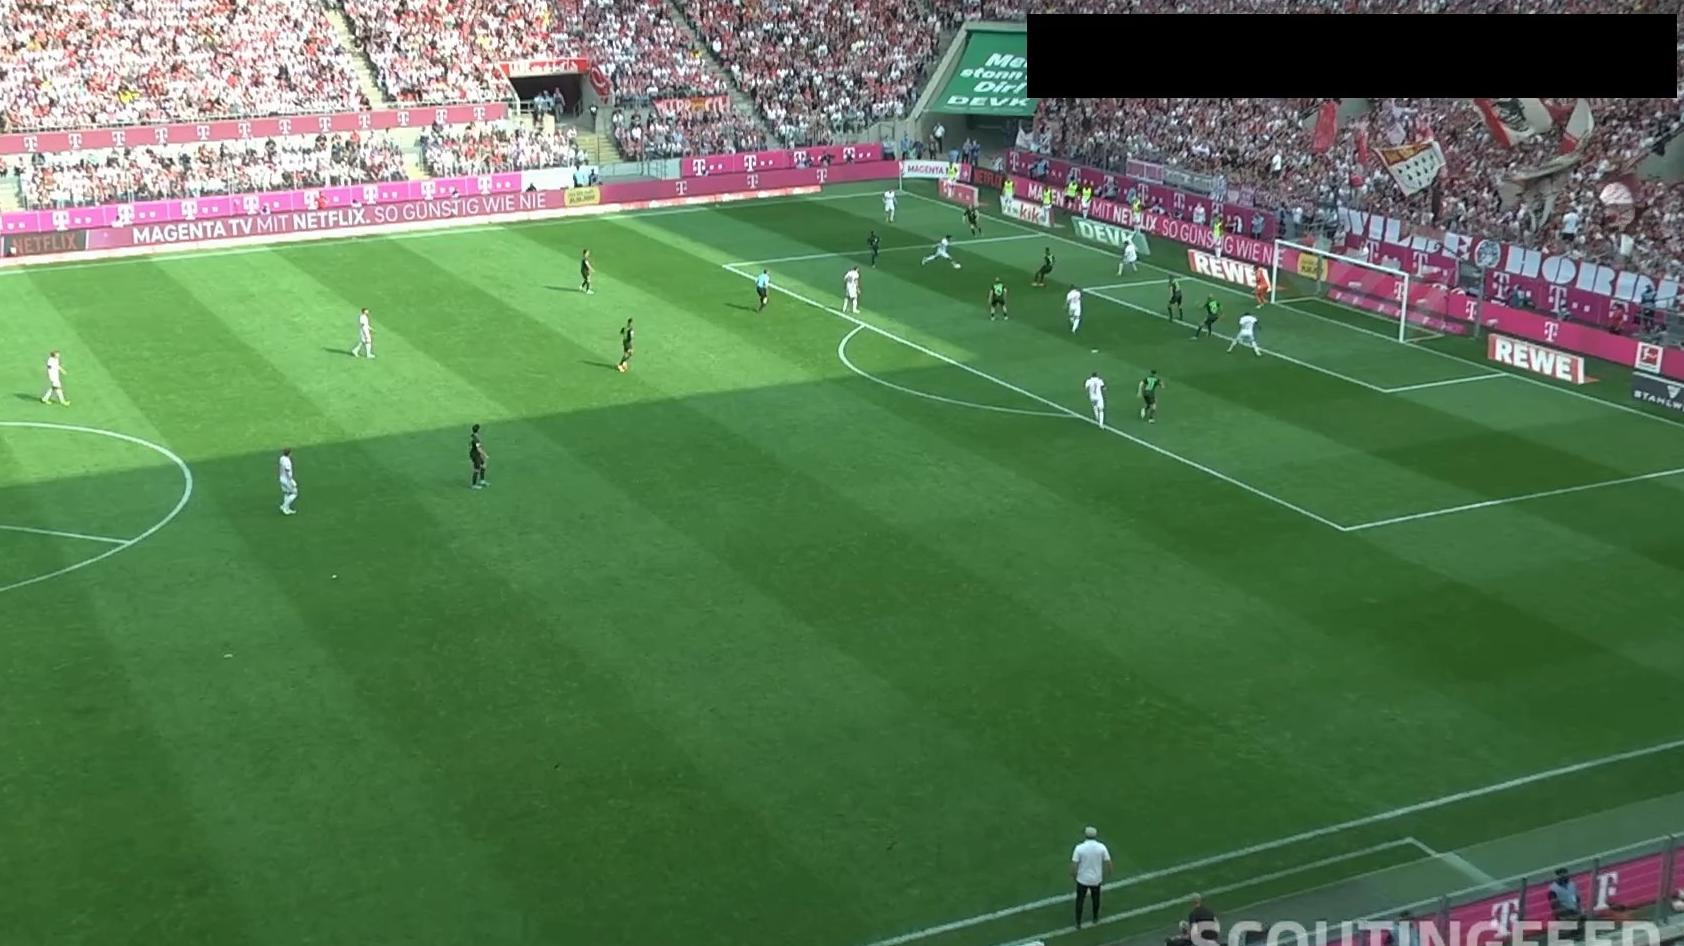ball: (954, 263, 962, 269)
